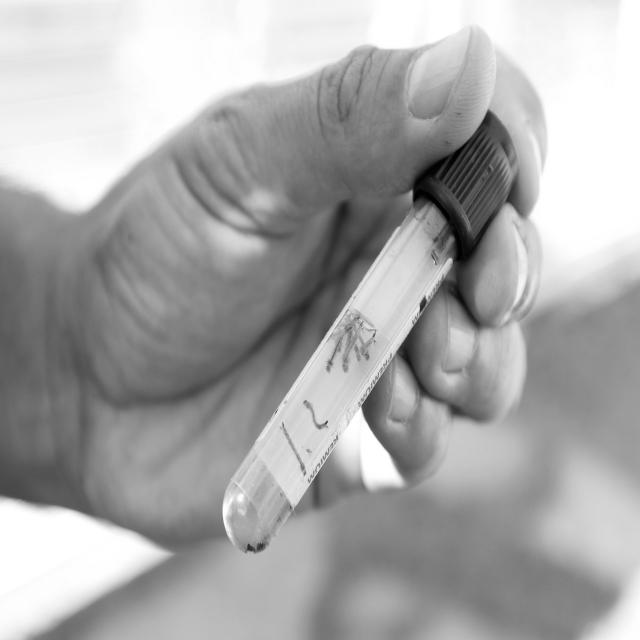larvas: (282, 423, 307, 475), (304, 400, 328, 429), (326, 335, 341, 372), (361, 333, 375, 354), (342, 351, 350, 372), (354, 346, 362, 361), (346, 331, 352, 350), (343, 326, 355, 332), (364, 353, 371, 361)
